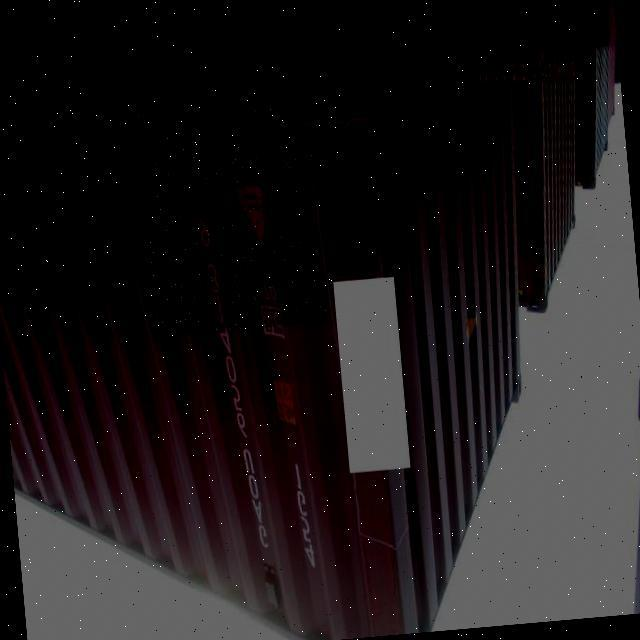Dent: (135, 98, 326, 336)
